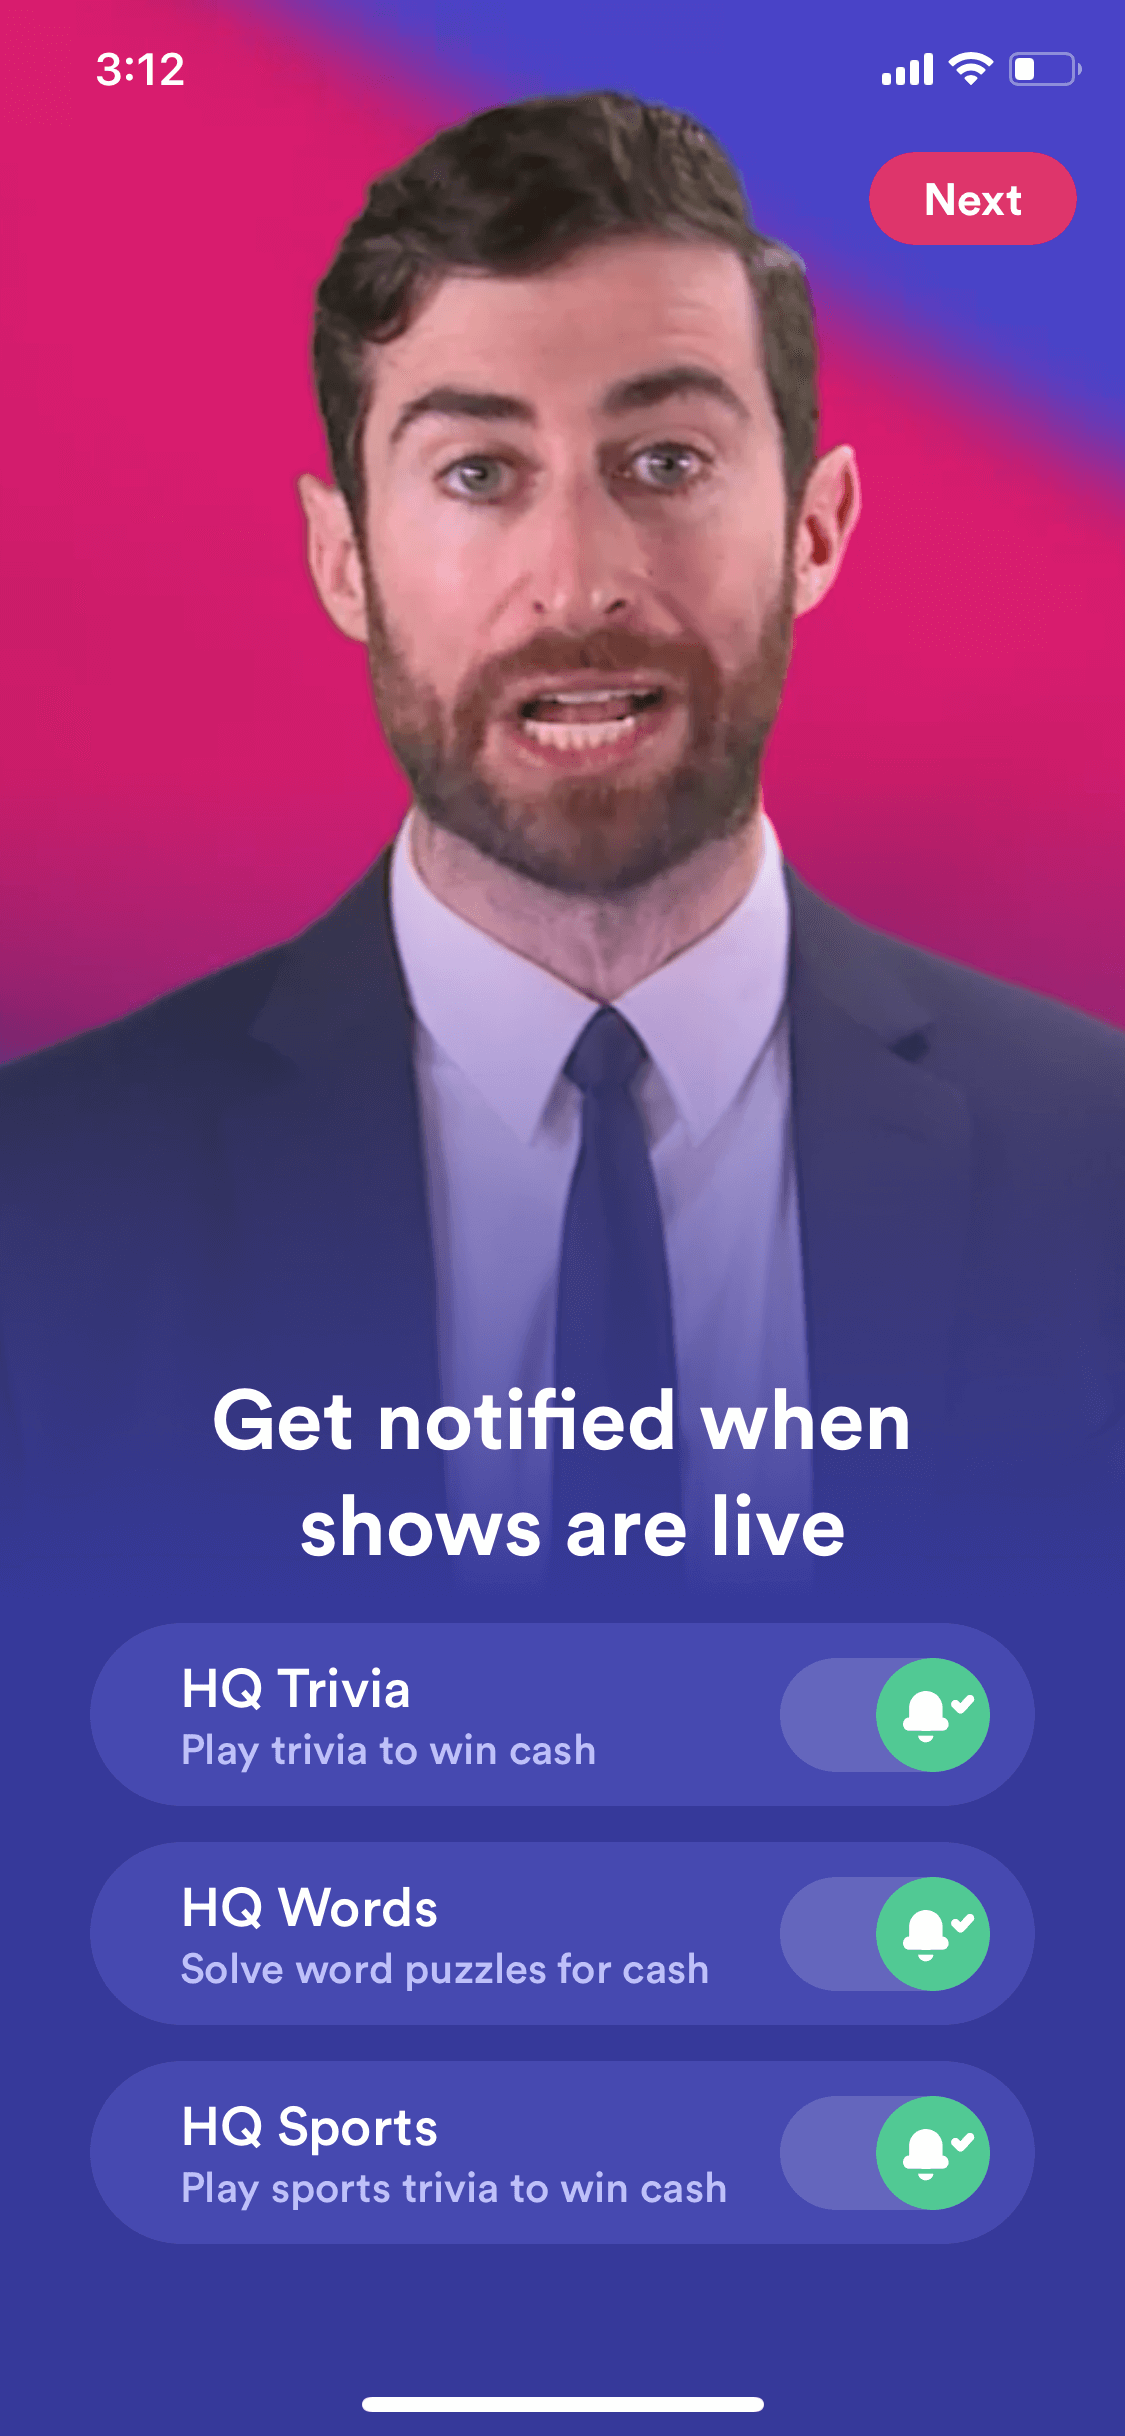Buttons: (855, 135, 1086, 249)
Switches: (771, 1867, 1002, 2003), (766, 1651, 998, 1783), (782, 2091, 998, 2217)
